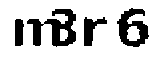3: (57, 8, 79, 48)
6: (119, 4, 150, 51)
m: (8, 16, 61, 53)
r: (81, 13, 107, 48)
